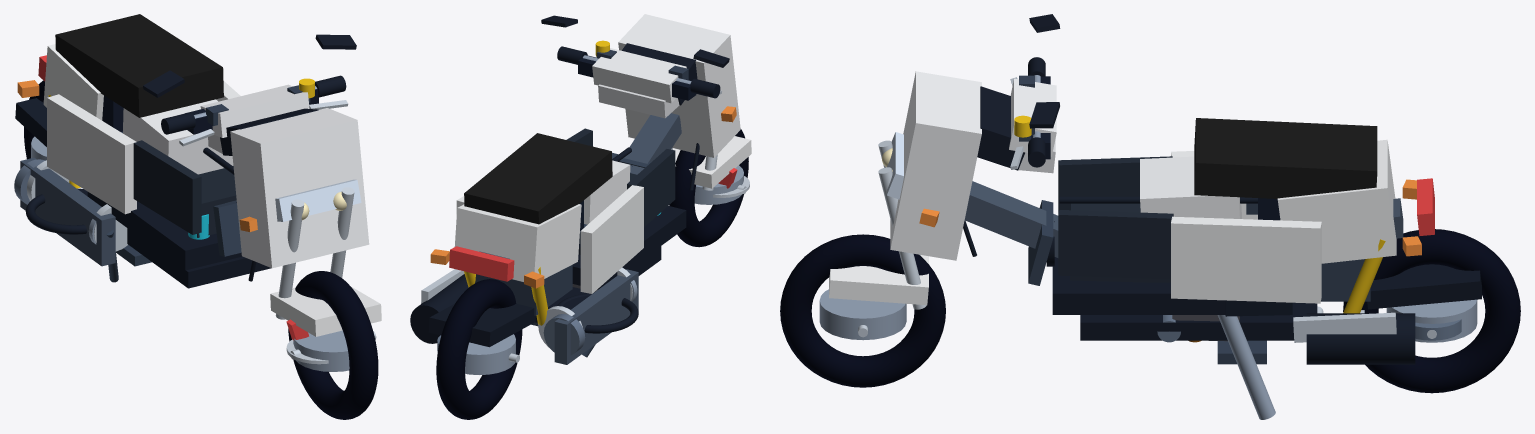
The model's file is pcx_150_selectable.glb.
3 renders of one model, left to right at view 1: azimuth 30°, elevation 25°; view 2: azimuth 150°, elevation 25°; view 3: azimuth 270°, elevation 25°, orthographic. The views are drawn at different scales.
Visible parts, largest first — view 1: Body.Front_Cover, Seat.Seat_Assembly, Body.Left_Side_Cover, Wheel.Front_Tire, Body.Left_Inner_Cover, CVT.Transmission_Case_Cover, Body.Floor_Step, Body.Center_Cover, Body.Handlebar_Cover_Upper, Body.Front_Fender, Body.Under_Cover, Body.Rear_Center_Cover (+19 smaller); view 2: Seat.Seat_Assembly, Body.Front_Cover, Body.Rear_Center_Cover, Wheel.Rear_Tire, Body.Left_Side_Cover, CVT.Transmission_Case_Cover, Wheel.Front_Tire, Body.Handlebar_Cover_Upper, Body.Rear_Fender, Body.Left_Inner_Cover, Frame.Front_Sub_Frame, Body.Floor_Step (+19 smaller); view 3: Seat.Seat_Assembly, Body.Front_Cover, Body.Right_Side_Cover, Wheel.Front_Tire, Wheel.Rear_Tire, Body.Right_Inner_Cover, Body.Rear_Center_Cover, Body.Floor_Step, Body.Under_Cover, Body.Center_Cover, Exhaust.Muffler, Body.Rear_Fender (+21 smaller).
Part boxes in pixels (bbox=[...]): Body.Front_Cover: bbox=[230, 108, 369, 268]; Seat.Seat_Assembly: bbox=[55, 14, 223, 117]; Body.Left_Side_Cover: bbox=[47, 94, 136, 214]; Wheel.Front_Tire: bbox=[288, 271, 378, 419]; Body.Left_Inner_Cover: bbox=[133, 140, 201, 234]; CVT.Transmission_Case_Cover: bbox=[20, 157, 115, 266]; Body.Floor_Step: bbox=[87, 192, 242, 270]; Body.Center_Cover: bbox=[123, 99, 233, 174]; Body.Handlebar_Cover_Upper: bbox=[200, 84, 309, 137]; Body.Front_Fender: bbox=[270, 286, 381, 336]; Body.Under_Cover: bbox=[82, 191, 271, 288]; Body.Rear_Center_Cover: bbox=[43, 44, 103, 120]; Seat.Seat_Assembly: bbox=[464, 133, 612, 224]; Body.Front_Cover: bbox=[618, 14, 740, 157]; Body.Rear_Center_Cover: bbox=[454, 204, 581, 281]; Wheel.Rear_Tire: bbox=[436, 279, 522, 419]; Body.Left_Side_Cover: bbox=[580, 185, 643, 293]; CVT.Transmission_Case_Cover: bbox=[554, 269, 638, 364]; Wheel.Front_Tire: bbox=[669, 129, 748, 247]; Body.Handlebar_Cover_Upper: bbox=[592, 48, 686, 103]; Body.Rear_Fender: bbox=[428, 303, 535, 347]; Body.Left_Inner_Cover: bbox=[627, 149, 675, 226]; Frame.Front_Sub_Frame: bbox=[620, 113, 681, 174]; Body.Floor_Step: bbox=[572, 206, 686, 289]; Seat.Seat_Assembly: bbox=[1194, 118, 1377, 198]; Body.Front_Cover: bbox=[890, 71, 981, 260]; Body.Right_Side_Cover: bbox=[1171, 216, 1321, 303]; Wheel.Front_Tire: bbox=[780, 234, 945, 387]; Wheel.Rear_Tire: bbox=[1343, 229, 1520, 393]; Body.Right_Inner_Cover: bbox=[1058, 210, 1173, 279]; Body.Rear_Center_Cover: bbox=[1277, 139, 1396, 263]; Body.Floor_Step: bbox=[1052, 257, 1225, 314]; Body.Under_Cover: bbox=[1080, 302, 1317, 340]; Body.Center_Cover: bbox=[1140, 156, 1241, 218]; Exhaust.Muffler: bbox=[1306, 313, 1415, 364]; Body.Rear_Fender: bbox=[1367, 264, 1481, 309].
Size of the model in its own units: 1.35 by 1.83 by 3.75.
